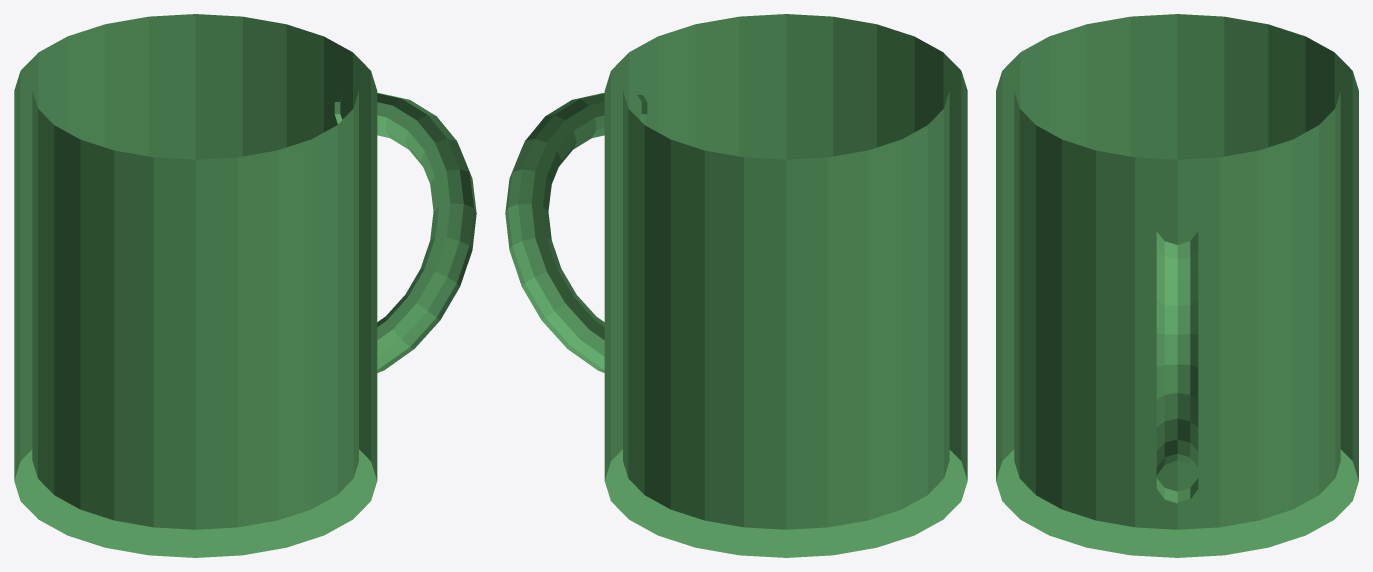
The model's file is cup.glb.
3 renders of one model, left to right at view 1: azimuth 30°, elevation 25°; view 2: azimuth 150°, elevation 25°; view 3: azimuth 270°, elevation 25°, orthographic.
Parts seen in each view (by area): view 1: Mug_Body, Mug_Handle; view 2: Mug_Body, Mug_Handle; view 3: Mug_Body, Mug_Handle.
Boxes of the visible parts, <box> form: Mug_Body: <box>14,14,377,557</box>; Mug_Handle: <box>334,93,476,372</box>; Mug_Body: <box>604,14,967,557</box>; Mug_Handle: <box>505,93,647,372</box>; Mug_Body: <box>996,14,1358,557</box>; Mug_Handle: <box>1156,231,1198,503</box>.
Bounding box in the file's own units: 0.1108 × 0.095 × 0.08.
